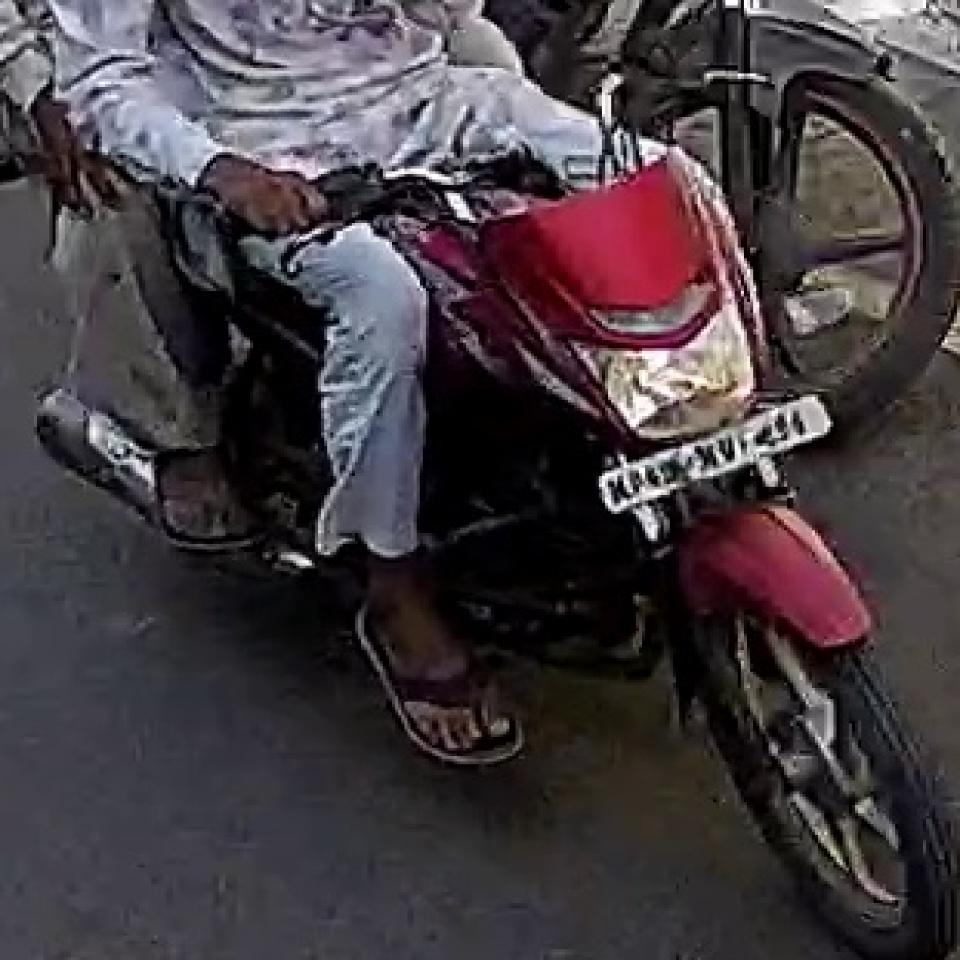head_light: (569, 274, 763, 438)
